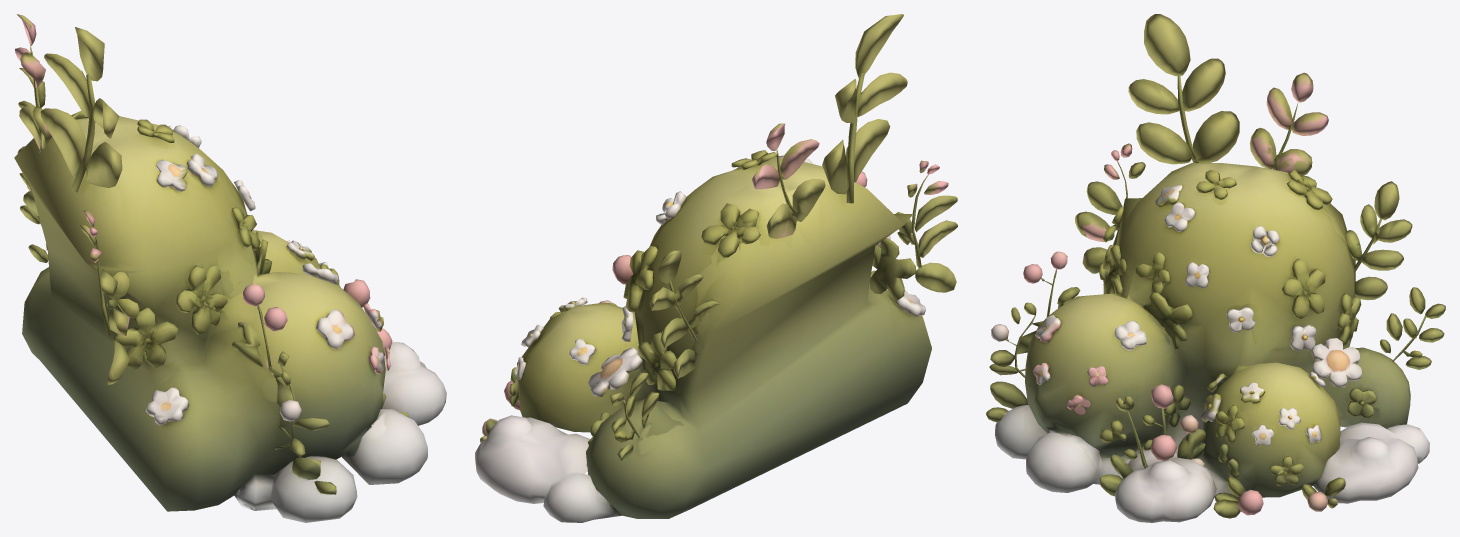
The model's file is prop_bush.glb.
The picture shows the model from 3 angles, left to right: view 1: azimuth 30°, elevation 25°; view 2: azimuth 150°, elevation 25°; view 3: azimuth 270°, elevation 25°; orthographic projection. The views are drawn at different scales.
Visible parts, largest first — view 1: tripo_node_8015e5f8-5e7b-43a9-bb15-78605d6ad26a; view 2: tripo_node_8015e5f8-5e7b-43a9-bb15-78605d6ad26a; view 3: tripo_node_8015e5f8-5e7b-43a9-bb15-78605d6ad26a.
Part boxes in pixels (x1,y1,x2,y2): tripo_node_8015e5f8-5e7b-43a9-bb15-78605d6ad26a: (14, 14, 446, 522); tripo_node_8015e5f8-5e7b-43a9-bb15-78605d6ad26a: (475, 14, 957, 522); tripo_node_8015e5f8-5e7b-43a9-bb15-78605d6ad26a: (986, 14, 1445, 522).
Bounding box in the file's own units: 0.801 × 0.9199 × 1.03.
Materials: 1 (1 with a texture image).
